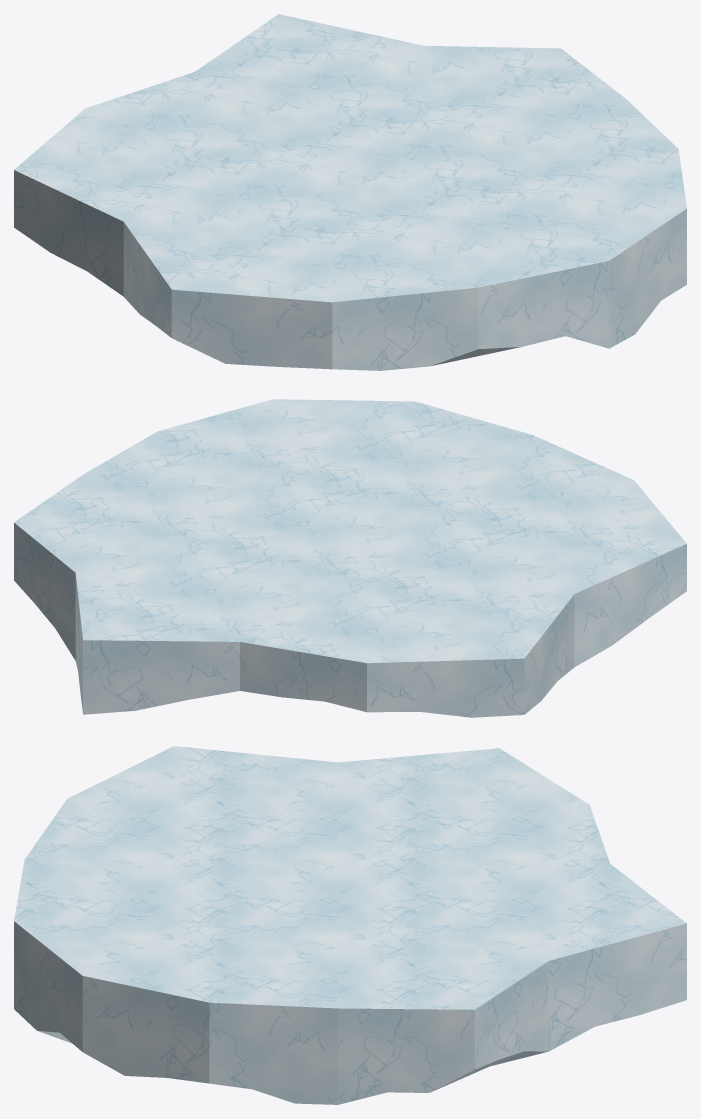
Rendered from hielo2.fbx.
3 views of the same model, one above another, from view 1: azimuth 30°, elevation 25°; view 2: azimuth 150°, elevation 25°; view 3: azimuth 270°, elevation 25° (orthographic). The views are drawn at different scales.
Parts seen in each view (by area): view 1: hielo2; view 2: hielo2; view 3: hielo2.
Boxes of the visible parts, <box> form: hielo2: <box>14,14,686,370</box>; hielo2: <box>14,399,686,717</box>; hielo2: <box>14,746,686,1104</box>.
Size of the model in its own units: 13.08 by 2.24 by 14.1.
1 material, 1 textured.
